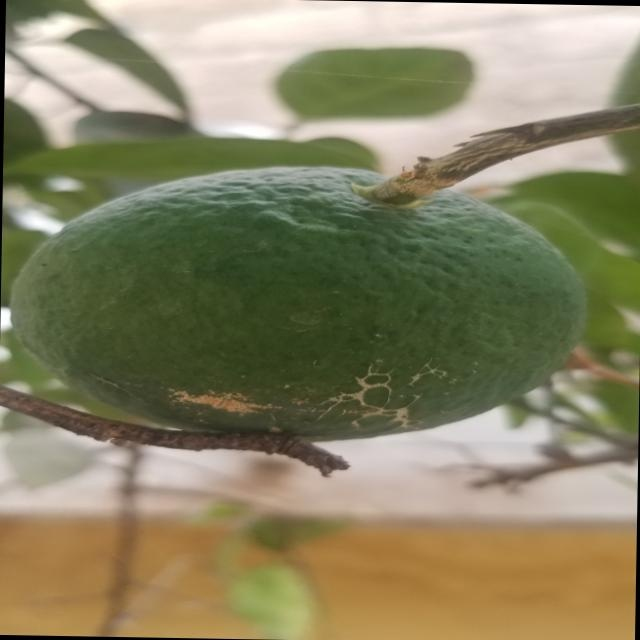agrume: (0, 150, 593, 470)
